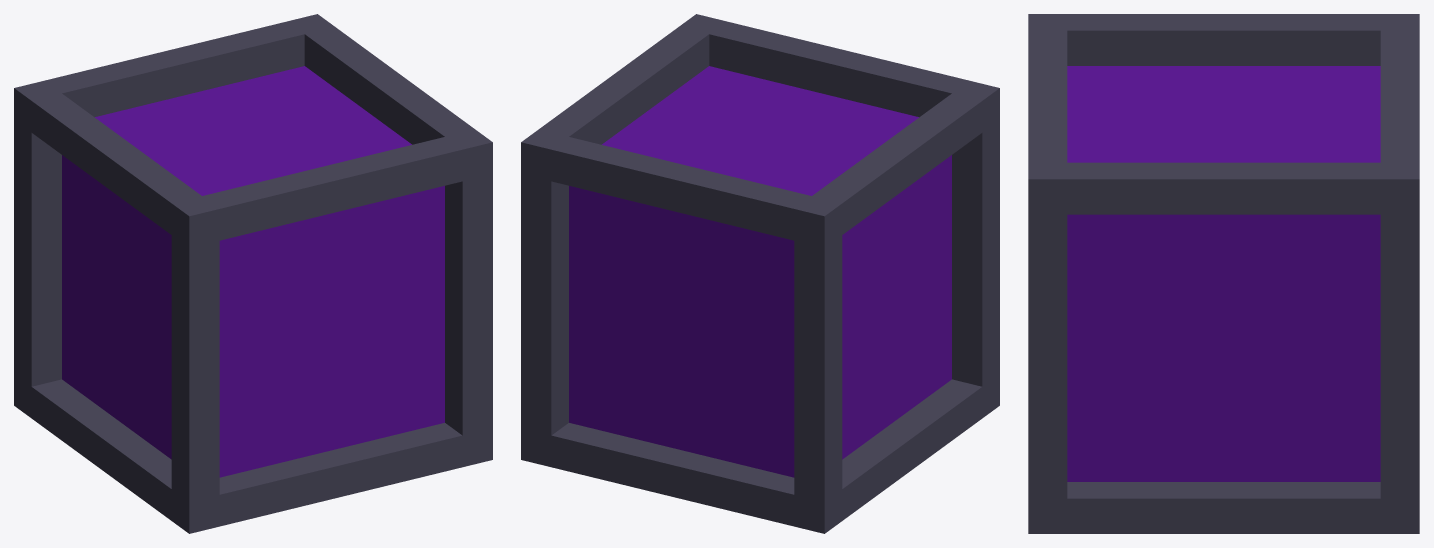
Rendered from Crate.obj.
The picture shows the model from 3 angles, left to right: view 1: azimuth 30°, elevation 25°; view 2: azimuth 150°, elevation 25°; view 3: azimuth 270°, elevation 25°; orthographic projection. The views are drawn at different scales.
Visible parts, largest first — view 1: Cube; view 2: Cube; view 3: Cube.
Boxes of the visible parts, x1=… form: Cube: x1=14, y1=14, x2=492, y2=533; Cube: x1=521, y1=14, x2=999, y2=533; Cube: x1=1028, y1=14, x2=1419, y2=533.
Size of the model in its own units: 2 by 2 by 2.
